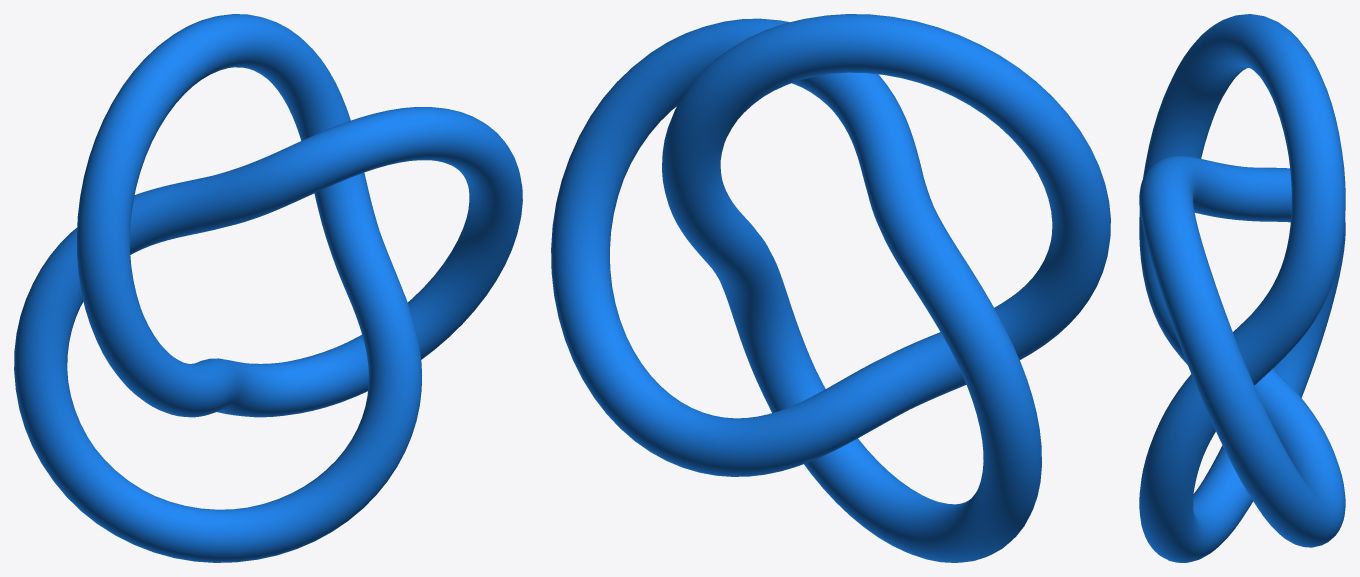
Rendered from torus-knot.glb.
3 views of the same model, side by side, from view 1: azimuth 30°, elevation 25°; view 2: azimuth 150°, elevation 25°; view 3: azimuth 270°, elevation 25° (orthographic). The views are drawn at different scales.
Visible parts, largest first — view 1: Torus knot (2, 3); view 2: Torus knot (2, 3); view 3: Torus knot (2, 3).
Part boxes in pixels (x1,y1,x2,y2): Torus knot (2, 3): [14, 14, 522, 562]; Torus knot (2, 3): [551, 14, 1110, 562]; Torus knot (2, 3): [1139, 14, 1345, 562].
Bounding box in the file's own units: 4.62 × 4.82 × 1.76.
